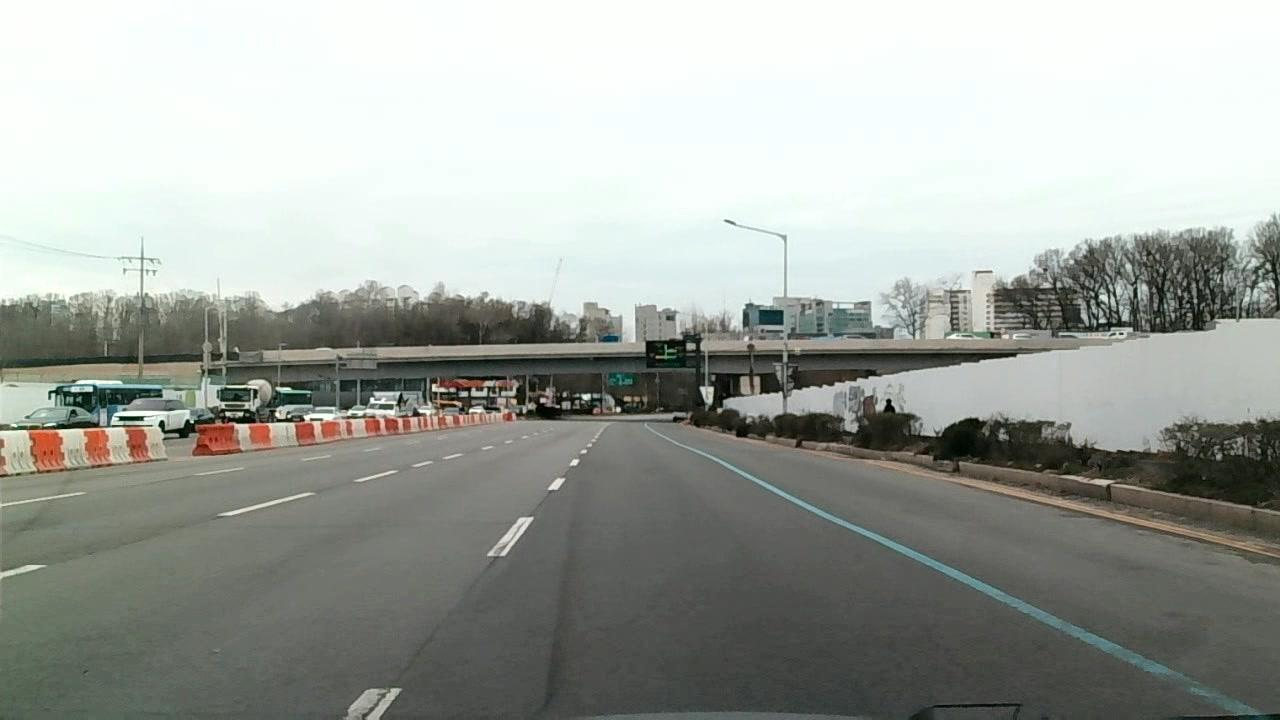banner: (353, 632, 420, 720), (476, 536, 511, 579), (526, 490, 553, 516)
